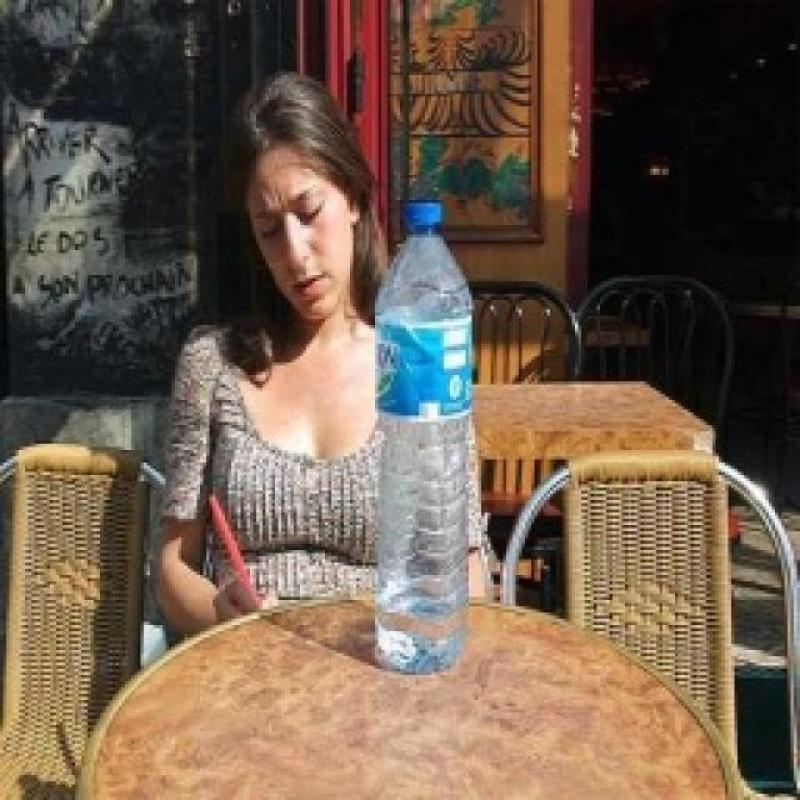botella: (371, 201, 477, 676)
